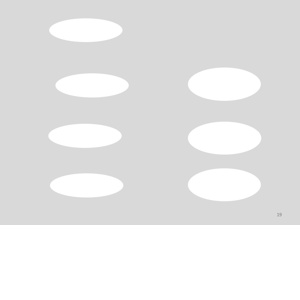round: (183, 164, 272, 206), (184, 119, 266, 159), (186, 65, 265, 103), (44, 118, 127, 151), (46, 168, 127, 201), (51, 69, 133, 100), (46, 16, 126, 45)
